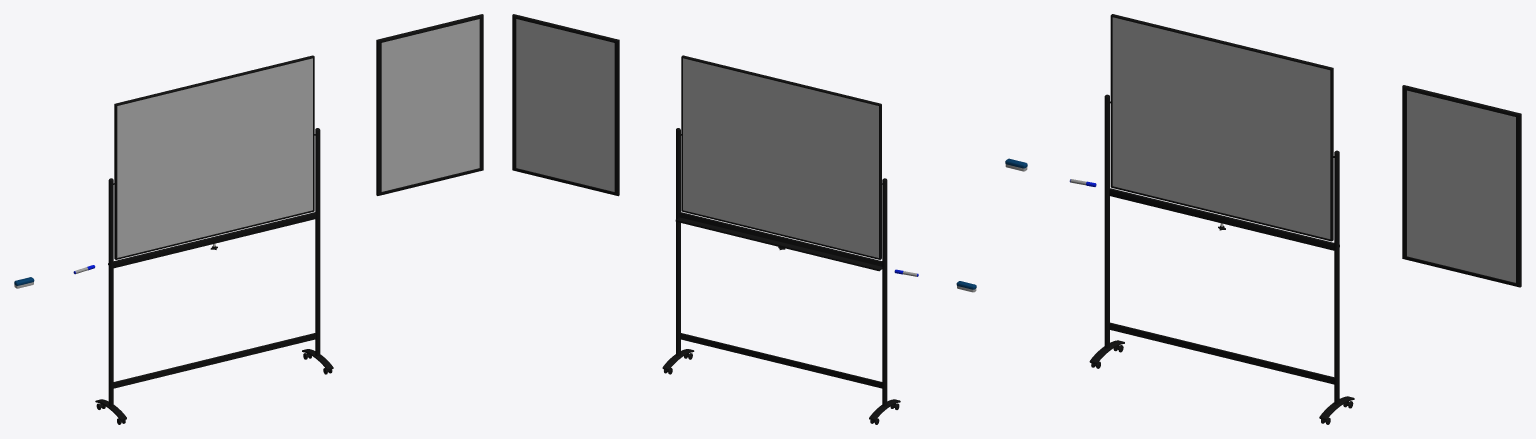
Rendered from Boards.glb.
3 views of the same model, side by side, from view 1: azimuth 30°, elevation 25°; view 2: azimuth 150°, elevation 25°; view 3: azimuth 330°, elevation 25° (orthographic). The views are drawn at different scales.
Parts seen in each view (by area): view 1: Big_board, Small_board; view 2: Big_board, Small_board; view 3: Big_board, Small_board.
Part boxes in pixels (<box>): Big_board: <box>95,55,333,424</box>; Small_board: <box>376,14,483,195</box>; Big_board: <box>662,55,900,424</box>; Small_board: <box>512,14,619,196</box>; Big_board: <box>1089,14,1354,424</box>; Small_board: <box>1402,85,1521,287</box>.
Size of the model in its own units: 3.2 by 2.04 by 0.3044.
1 material, 1 textured.
